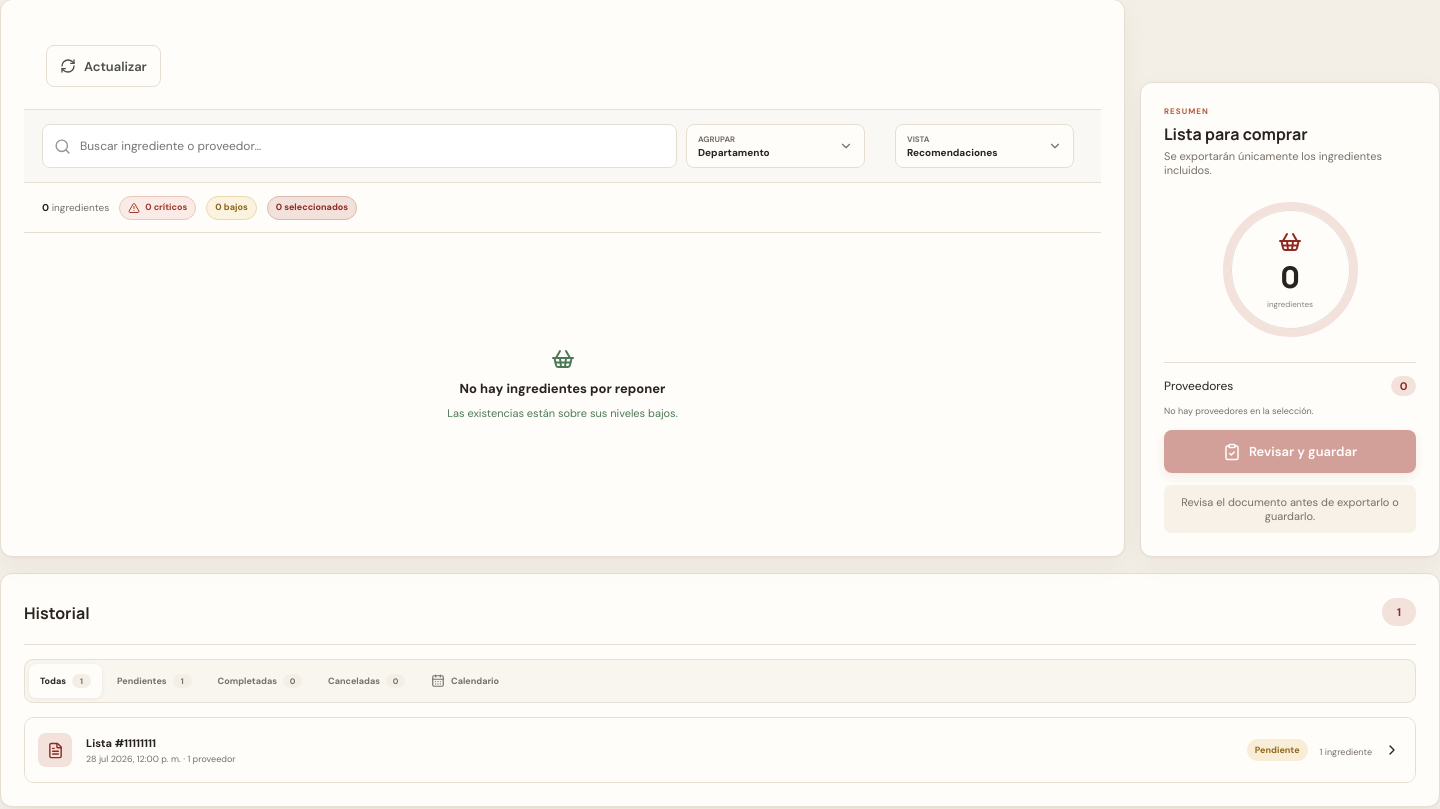
Test: ShoppingPage purchase receipt review › uses singular cancellation copy for an order with one ingredient
The width and height of the screenshot is (1440, 809).
Step 1. Click the button "Lista #11111111" → (55, 750), box [25,718,1415,782]
(page scrolled)
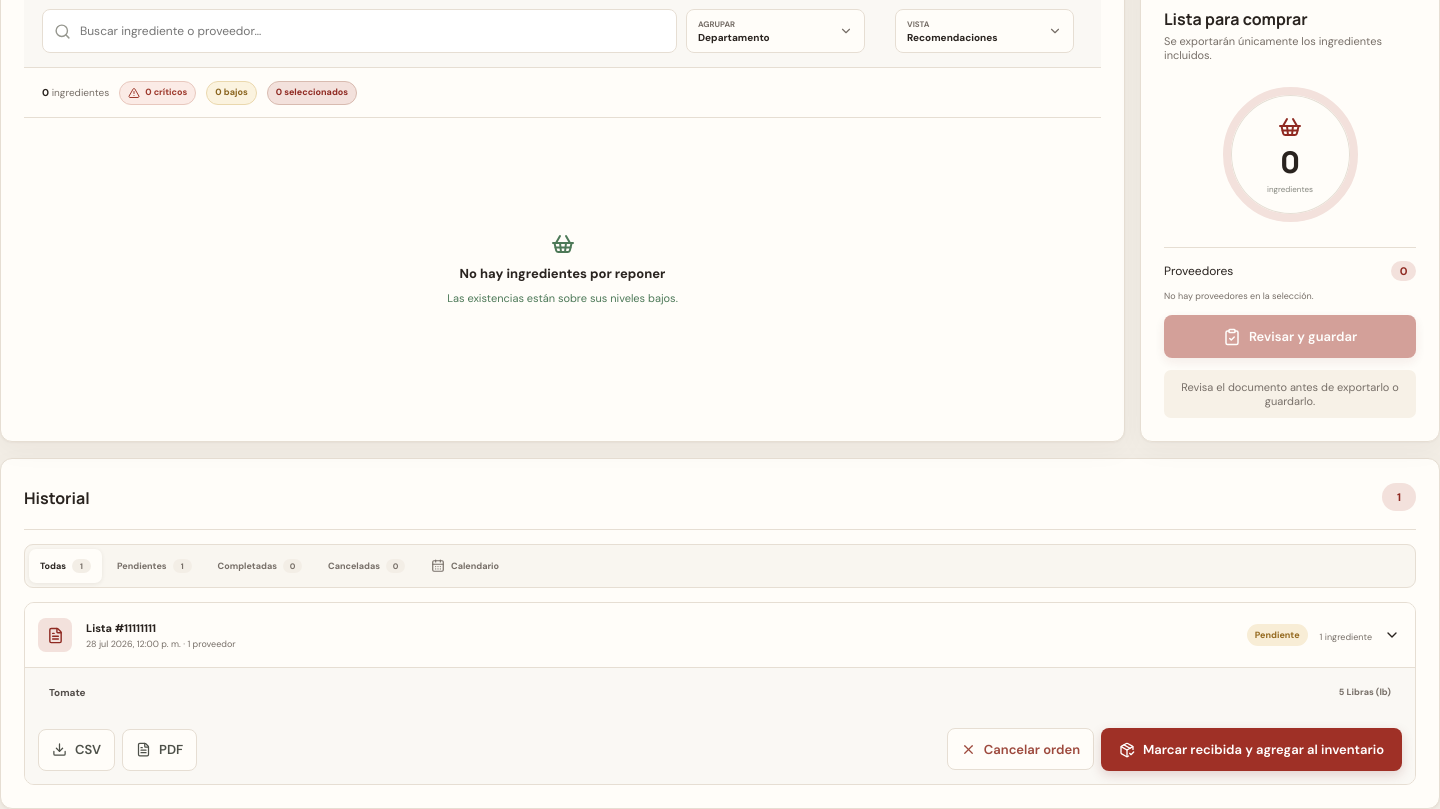
Step 2. Click the button "Cancelar orden" → (1020, 749), box [947,728,1094,770]
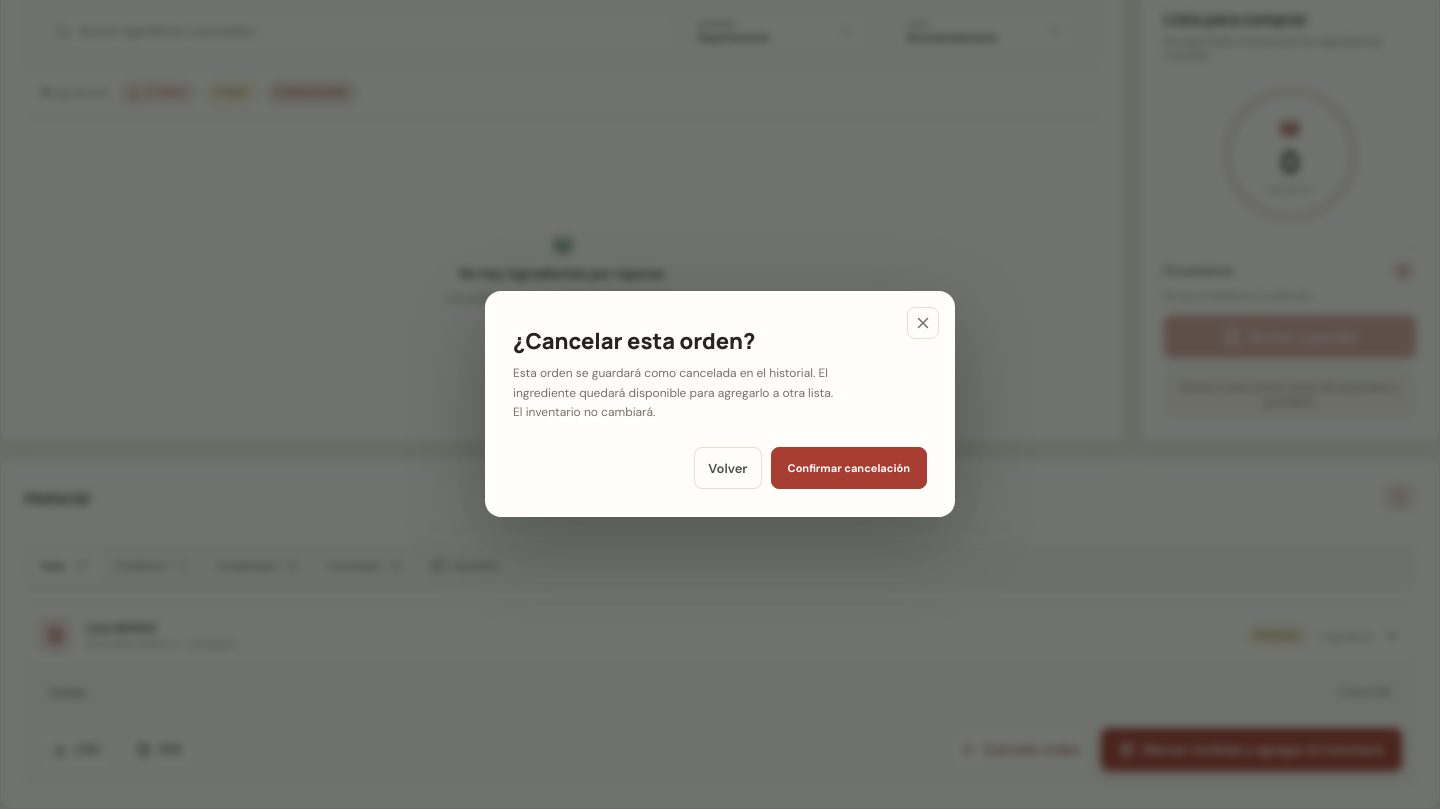
Now the dialog "¿Cancelar esta orden?" shows "El ingrediente quedará disponible para agregarlo a otra lista", box [513,365,833,401]
